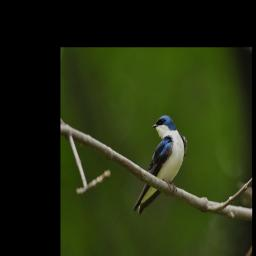Swallow: (132, 114, 188, 215)
